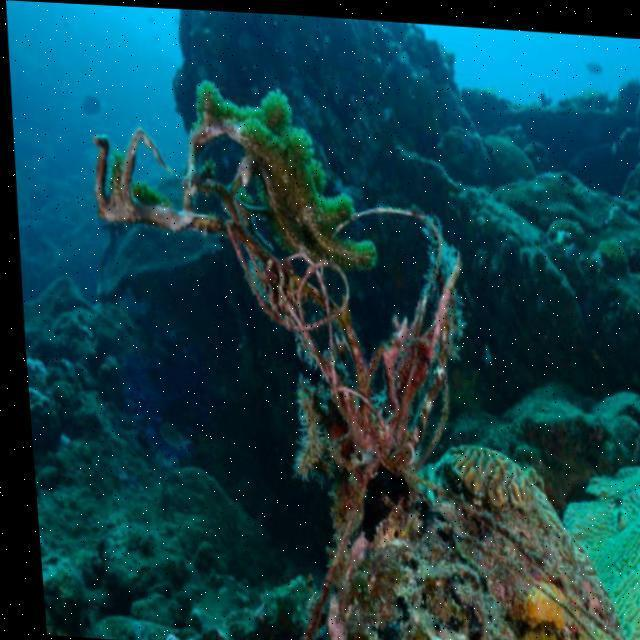Healthy Coral: (132, 77, 392, 305), (511, 447, 640, 640)
